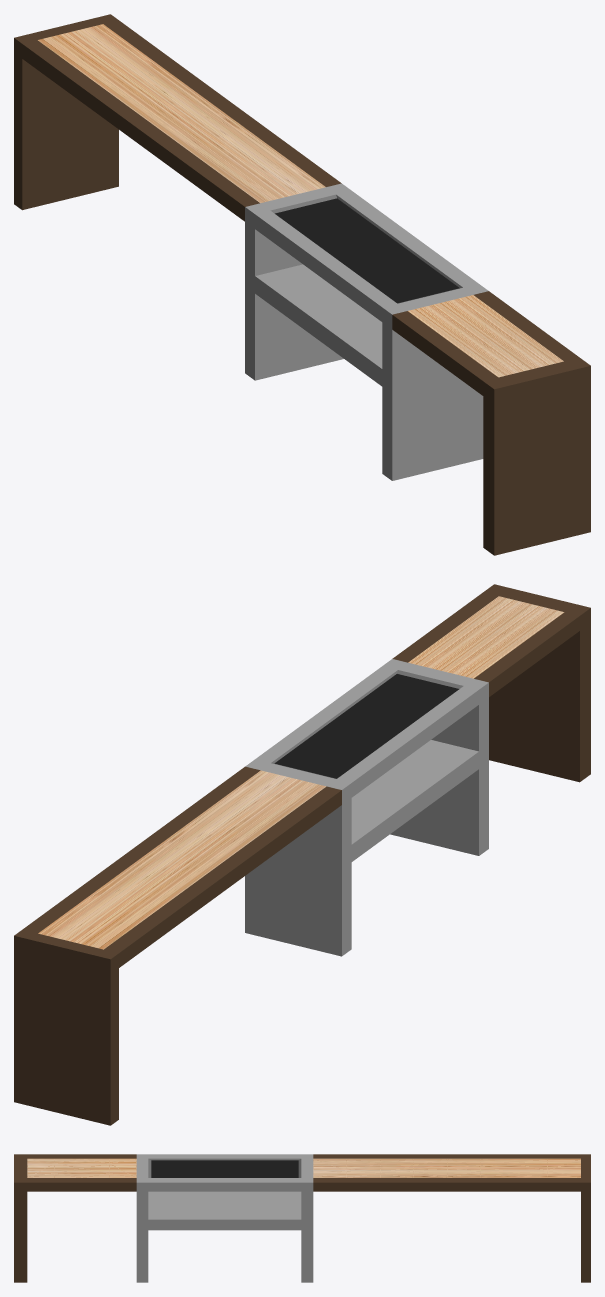
Rendered from en_medio_playa.obj.
3 views of the same model, one above another, from view 1: azimuth 30°, elevation 25°; view 2: azimuth 150°, elevation 25°; view 3: azimuth 270°, elevation 25° (orthographic). The views are drawn at different scales.
Parts seen in each view (by area): view 1: en_medio_playa; view 2: en_medio_playa; view 3: en_medio_playa.
Part boxes in pixels (<box>): en_medio_playa: <box>14,14,590,555</box>; en_medio_playa: <box>14,584,590,1125</box>; en_medio_playa: <box>14,1154,590,1282</box>.
Bounding box in the file's own units: 2.58 × 4.25 × 22.22.
Materials: 1 (1 with a texture image).
